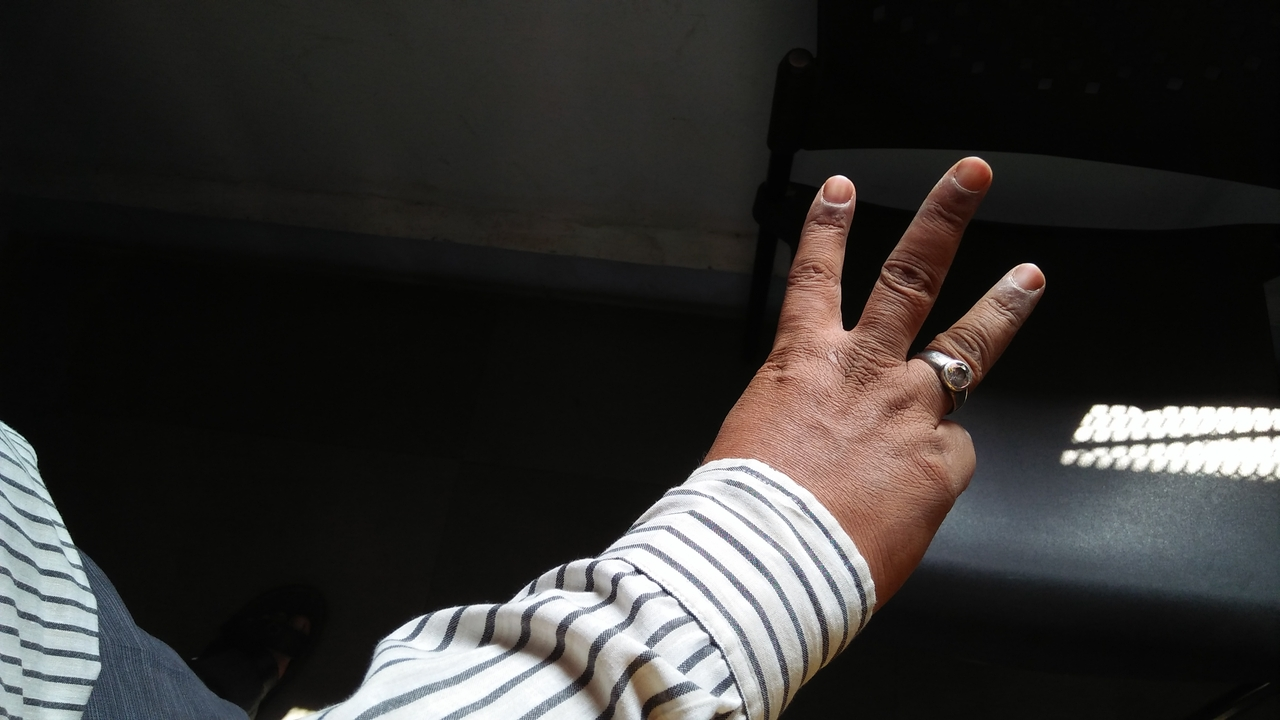fingertip: (942, 150, 1002, 202), (996, 254, 1056, 304), (808, 166, 864, 214)
